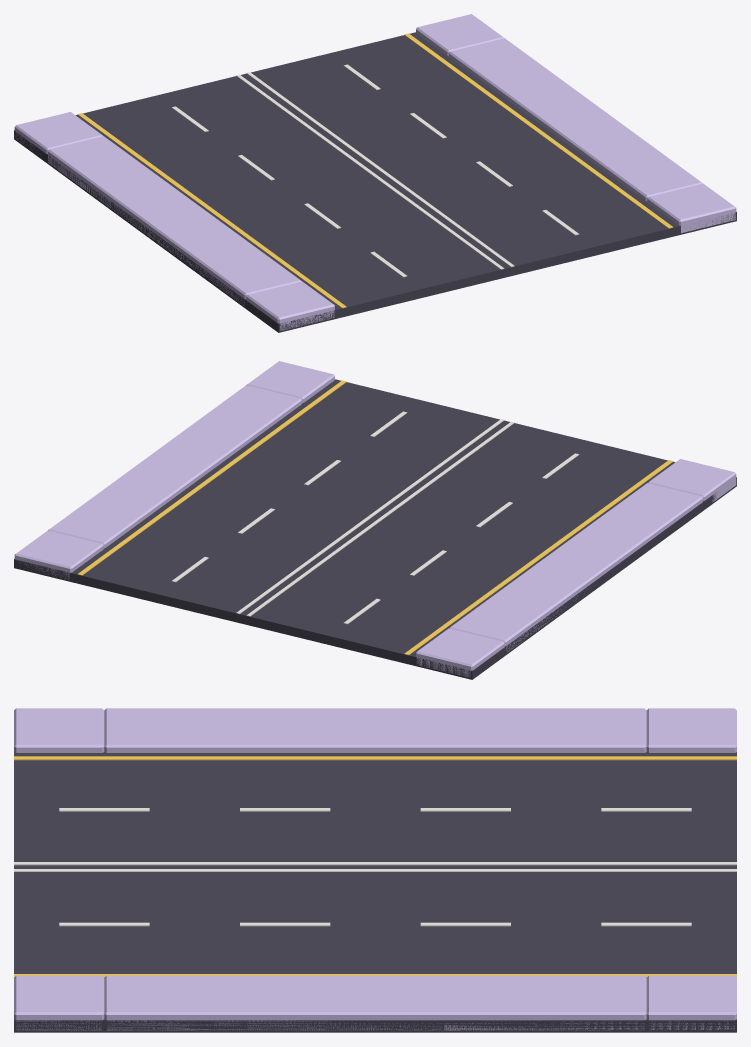
Rendered from road_straight.glb.
3 renders of one model, top to bottom at view 1: azimuth 30°, elevation 25°; view 2: azimuth 150°, elevation 25°; view 3: azimuth 270°, elevation 25°, orthographic. The views are drawn at different scales.
Parts seen in each view (by area): view 1: road_straight; view 2: road_straight; view 3: road_straight.
Boxes of the visible parts, left/top/right/bottom form: road_straight: left=14, top=14, right=736, bottom=332; road_straight: left=14, top=361, right=736, bottom=679; road_straight: left=14, top=708, right=736, bottom=1032.
Size of the model in its own units: 16 by 0.48 by 16.
